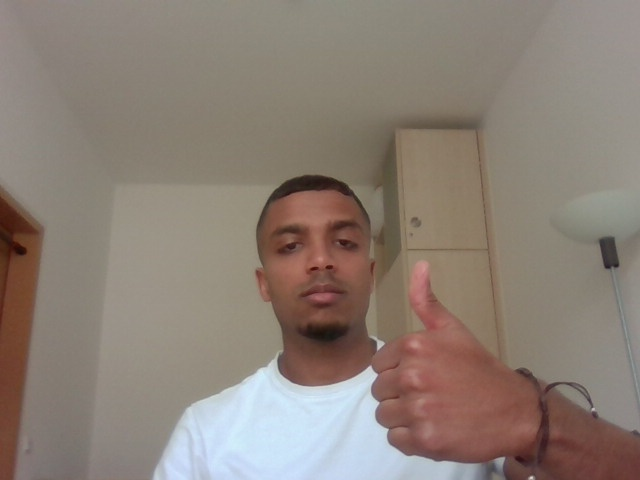yes: (366, 253, 536, 480)
